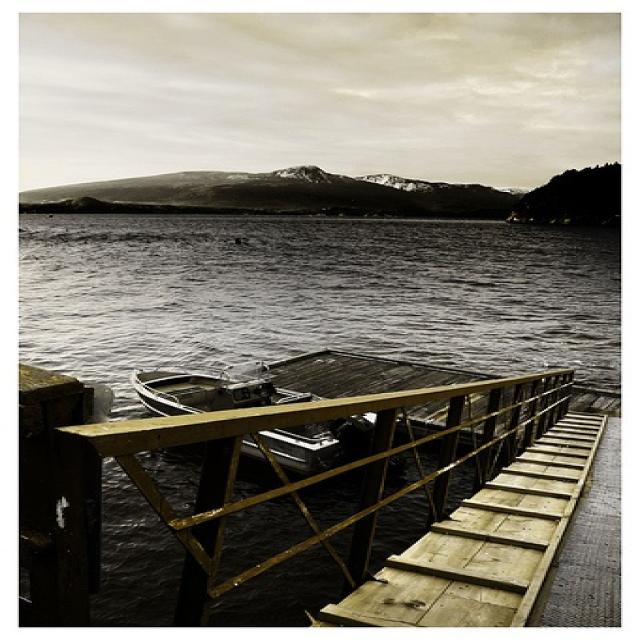boat: (122, 353, 392, 475)
